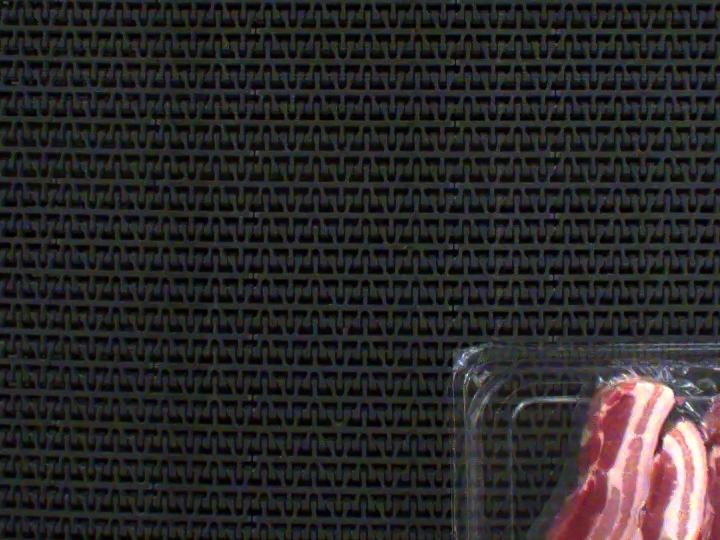unsealed: (467, 357, 720, 540)
